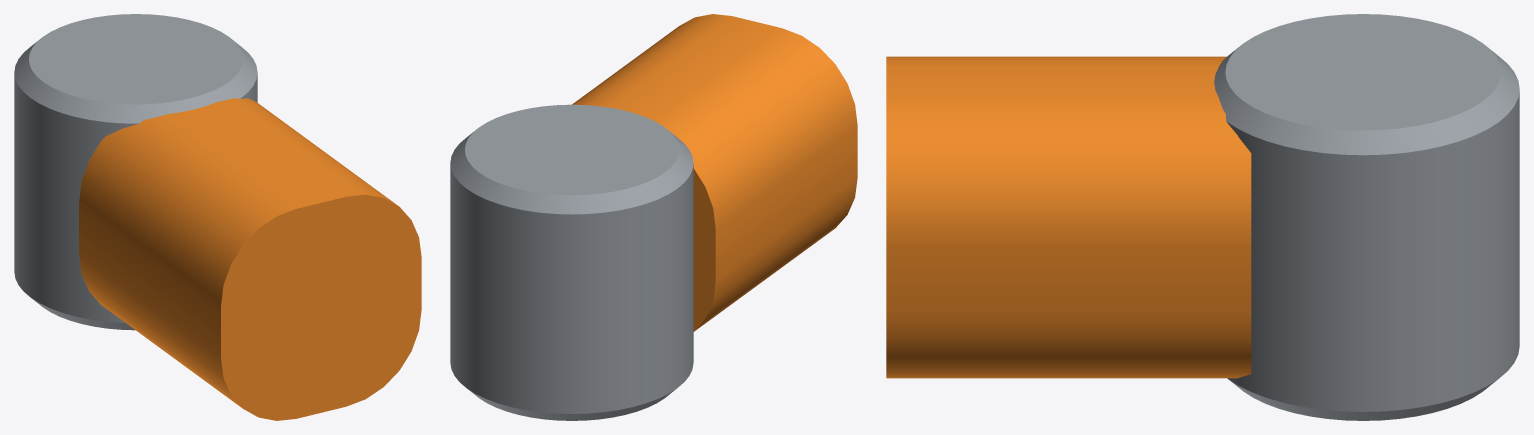
3 renders of one model, left to right at view 1: azimuth 30°, elevation 25°; view 2: azimuth 150°, elevation 25°; view 3: azimuth 270°, elevation 25°, orthographic. The views are drawn at different scales.
Parts seen in each view (by area): view 1: link5; view 2: link5; view 3: link5.
Boxes of the visible parts, bbox=[...] form: link5: bbox=[14, 14, 421, 420]; link5: bbox=[450, 14, 857, 420]; link5: bbox=[886, 14, 1519, 420].
Bounding box in the file's own units: 0.0315 × 0.0323 × 0.0638.
